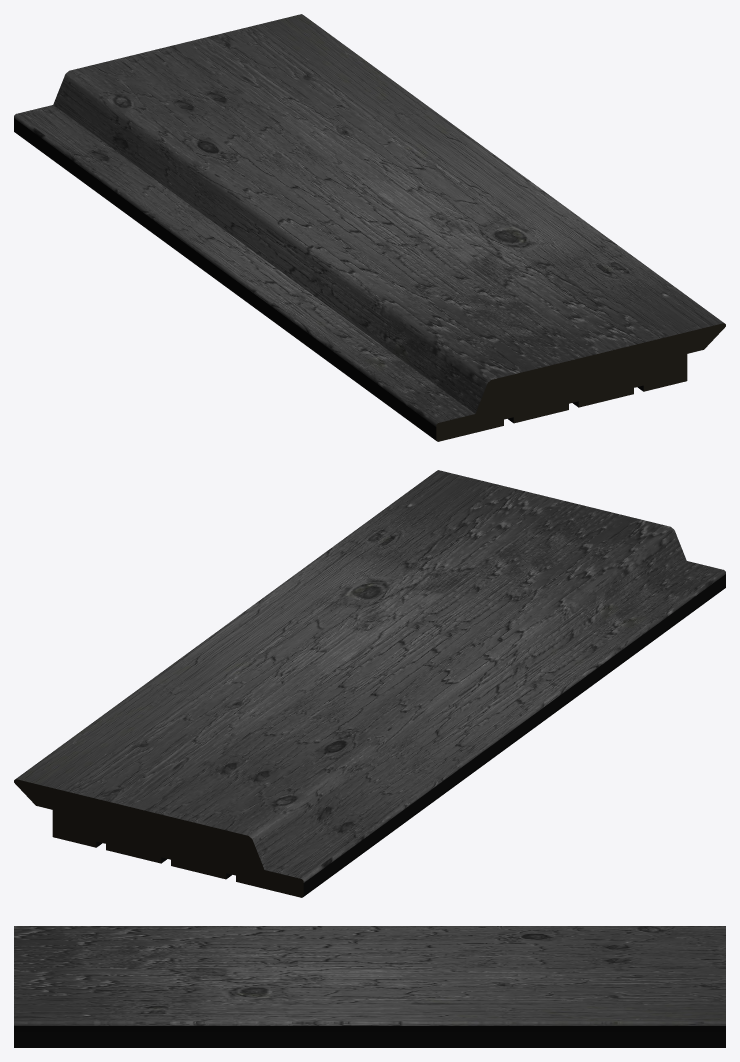
The model's file is spruce-facade-half-tongue-45-carbon.glb.
The picture shows the model from 3 angles, top to bottom: view 1: azimuth 30°, elevation 25°; view 2: azimuth 150°, elevation 25°; view 3: azimuth 270°, elevation 25°; orthographic projection. The views are drawn at different scales.
Visible parts, largest first — view 1: Pusė_Špunto_45; view 2: Pusė_Špunto_45; view 3: Pusė_Špunto_45.
Part boxes in pixels (x1,y1,x2,y2): Pusė_Špunto_45: [14, 14, 725, 441]; Pusė_Špunto_45: [14, 470, 725, 897]; Pusė_Špunto_45: [14, 926, 725, 1047].
Size of the model in its own units: 0.0723 by 0.0117 by 0.1826.
Materials: 3 (1 with a texture image).
